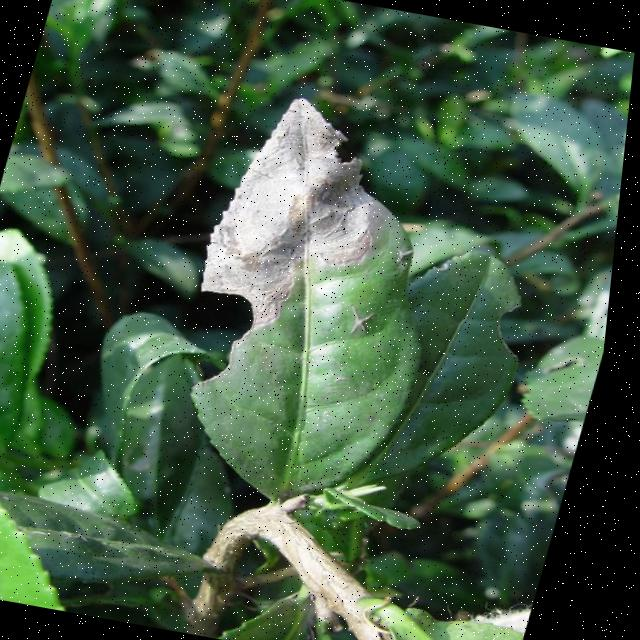Tea cloud leaf blight: (174, 74, 436, 362)
